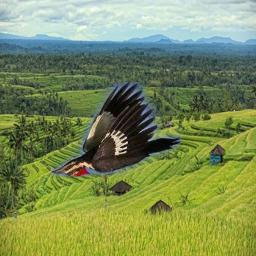Woodpecker: (51, 82, 181, 177)
